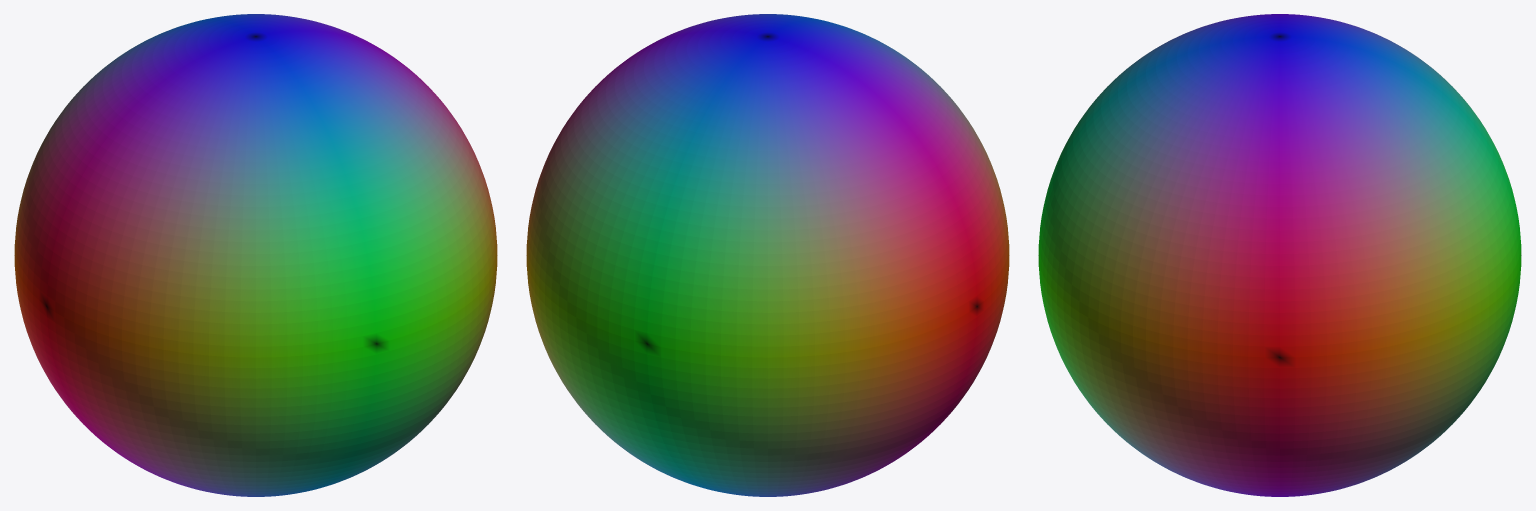
The model's file is SM_DenseSphere.fbx.
The picture shows the model from 3 angles, left to right: view 1: azimuth 30°, elevation 25°; view 2: azimuth 150°, elevation 25°; view 3: azimuth 270°, elevation 25°; orthographic projection.
Parts seen in each view (by area): view 1: SM_DenseSphere; view 2: SM_DenseSphere; view 3: SM_DenseSphere.
Boxes of the visible parts, <box> form: SM_DenseSphere: <box>14,14,497,496</box>; SM_DenseSphere: <box>526,14,1009,496</box>; SM_DenseSphere: <box>1038,14,1521,496</box>.
Size of the model in its own units: 10000 by 10000 by 10000.
